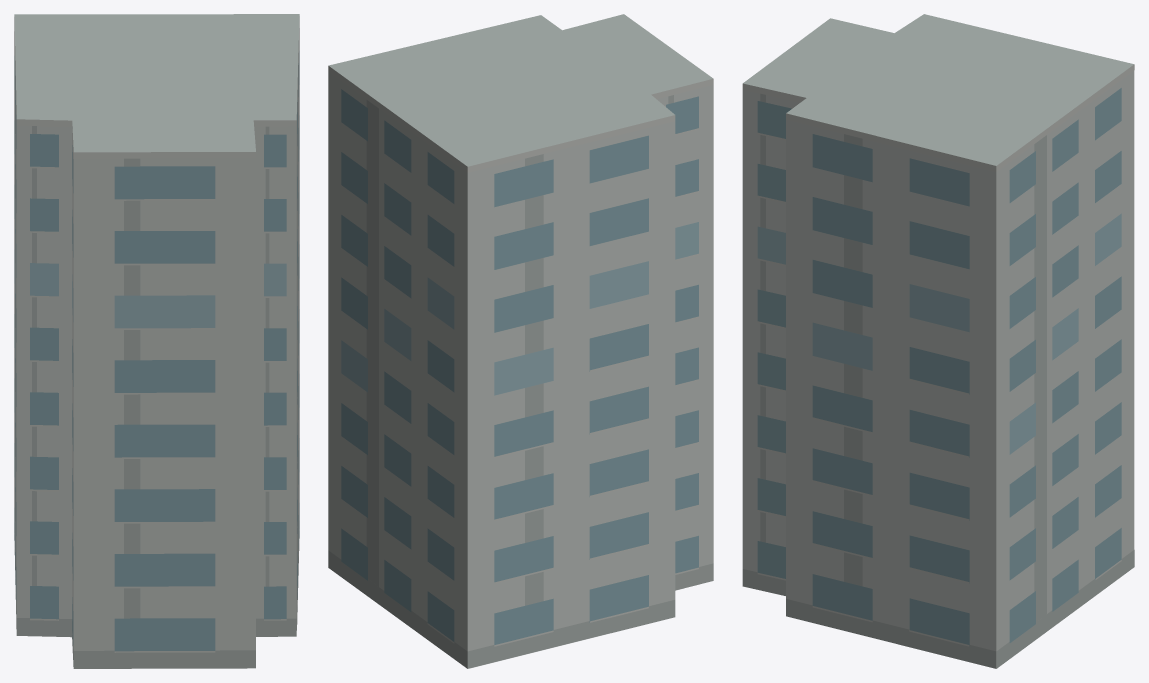
The model's file is survey-upis-32807645.glb.
3 renders of one model, left to right at view 1: azimuth 30°, elevation 25°; view 2: azimuth 150°, elevation 25°; view 3: azimuth 270°, elevation 25°, orthographic. The views are drawn at different scales.
Visible parts, largest first — view 1: survey-upis-32807645.tmp; view 2: survey-upis-32807645.tmp; view 3: survey-upis-32807645.tmp.
Part boxes in pixels (x1,y1,x2,y2): survey-upis-32807645.tmp: (14,14,299,668); survey-upis-32807645.tmp: (328,14,713,668); survey-upis-32807645.tmp: (742,14,1134,668).
Size of the model in its own units: 12.91 by 19.9 by 14.06.
